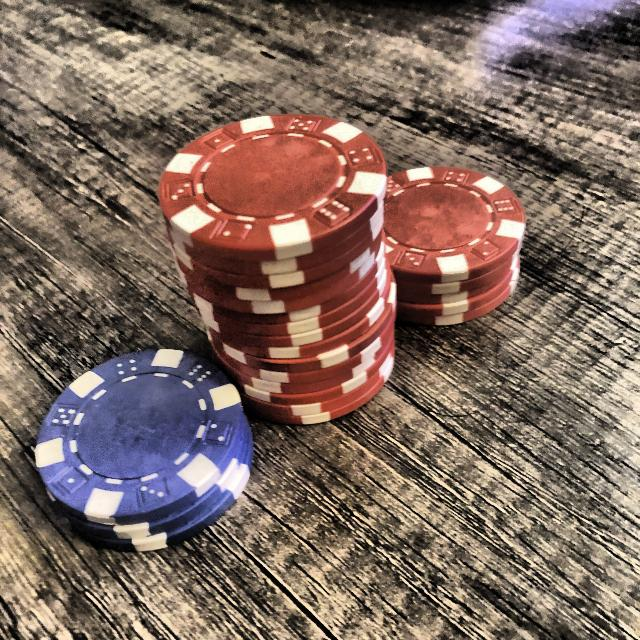Chip: (155, 106, 399, 427), (29, 343, 255, 552), (368, 160, 529, 330)
